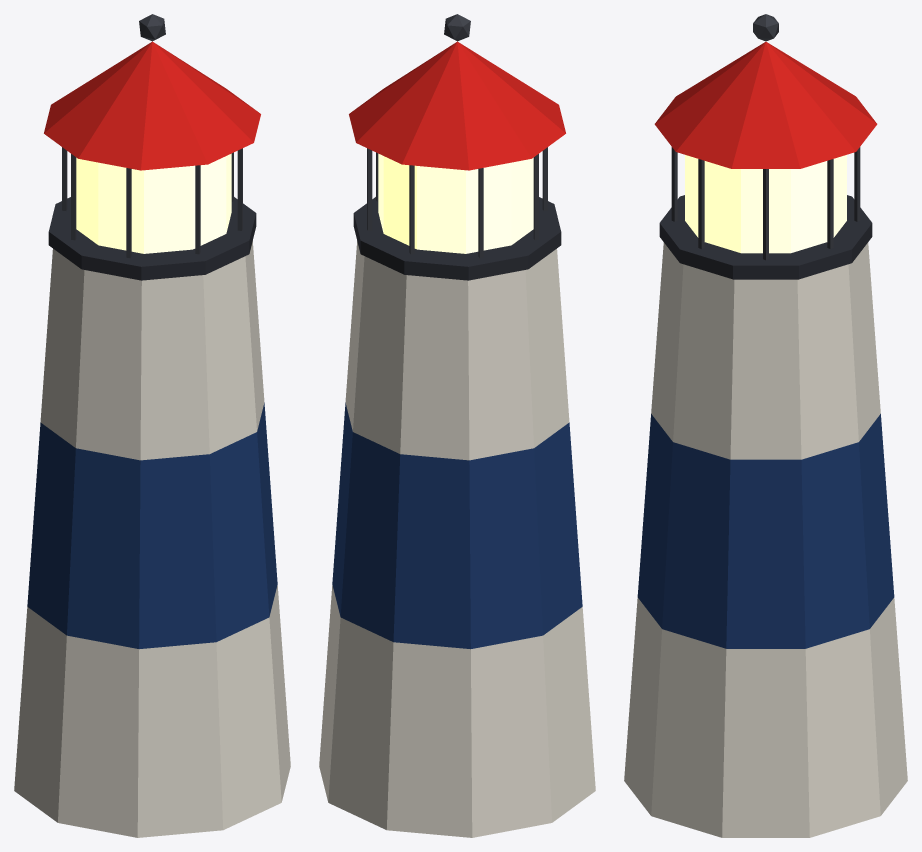
The model's file is lighthouse_small.glb.
3 renders of one model, left to right at view 1: azimuth 30°, elevation 25°; view 2: azimuth 150°, elevation 25°; view 3: azimuth 270°, elevation 25°, orthographic.
Parts seen in each view (by area): view 1: lighthouse_small; view 2: lighthouse_small; view 3: lighthouse_small.
Boxes of the visible parts, <box> form: lighthouse_small: <box>14,14,290,837</box>; lighthouse_small: <box>319,14,595,837</box>; lighthouse_small: <box>624,14,907,837</box>.
Bounding box in the file's own units: 2.66 × 8.35 × 2.8.
